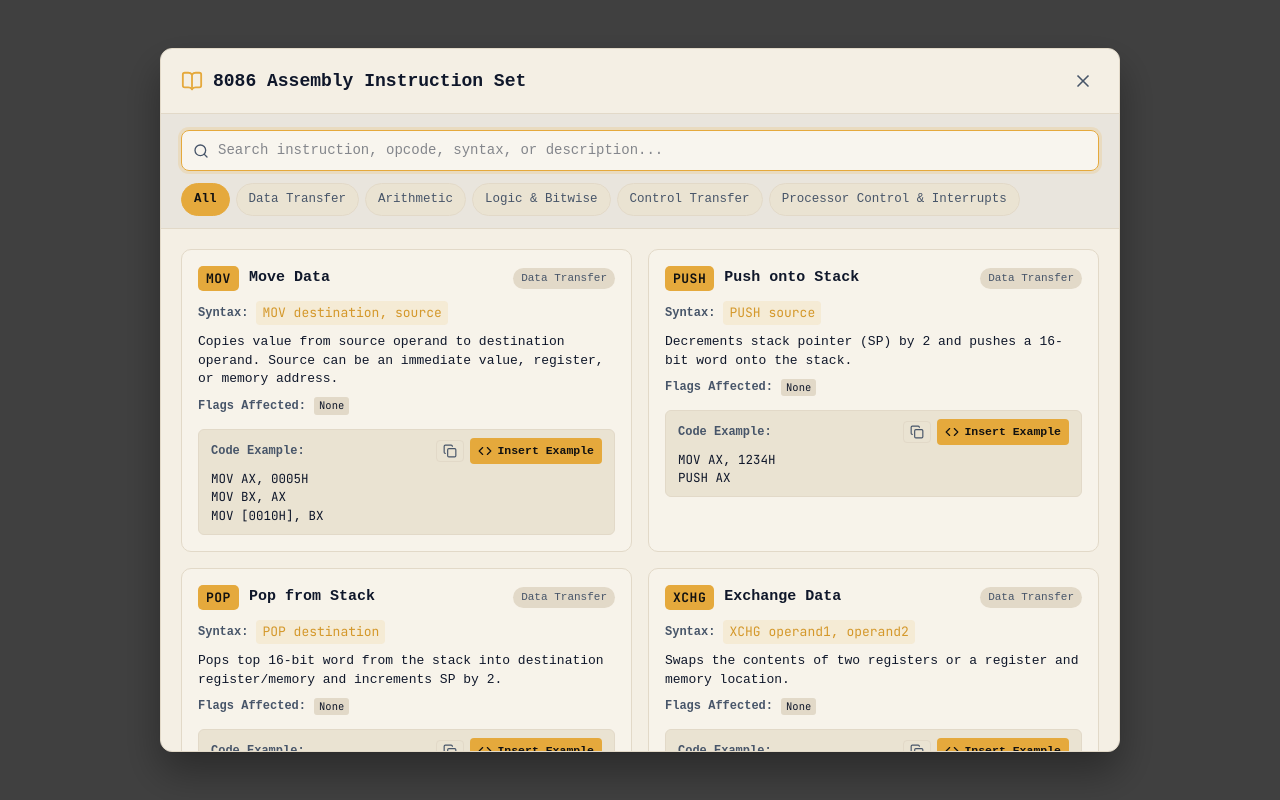
Test: InstructionSetModal Component › shows no results message when search yields no matches
The image size is (1280, 800).
Type "ZZZZZ" into the field with placeholder "Search instruction, opcode, syntax, or description..." at (640,150), box [181,130,1099,171]
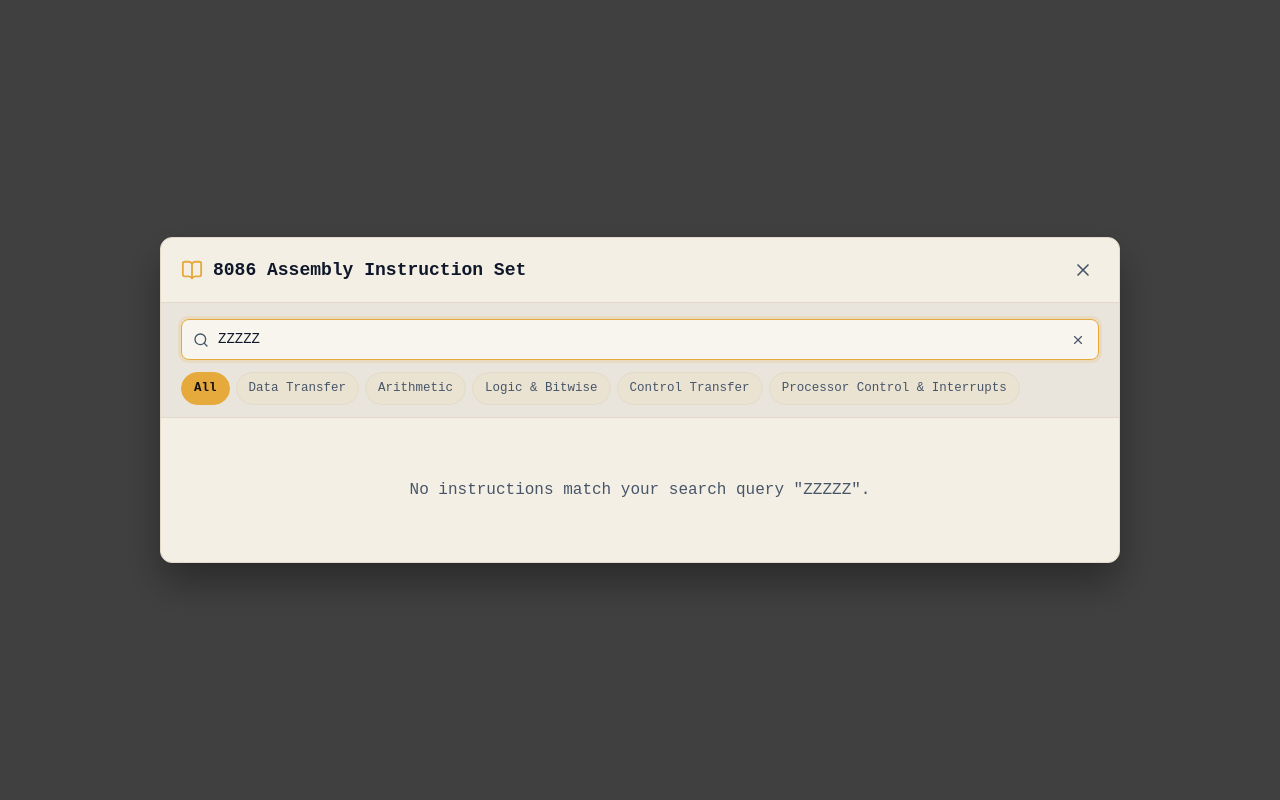
expect the text "No instructions match your search query \"ZZZZZ\"." is shown: met, box [410,481,870,499]
expect the button "Insert Example" is gone: met
